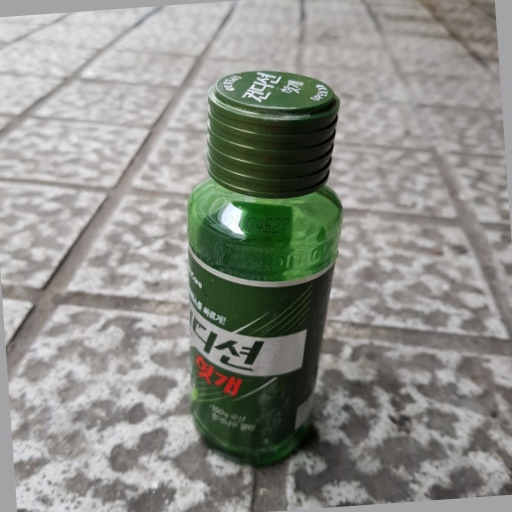Glass_4: (178, 66, 343, 464)
